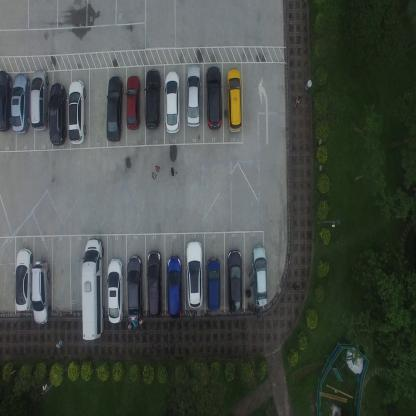car: (81, 236, 104, 341), (67, 78, 86, 146), (32, 258, 51, 326), (14, 246, 33, 312), (11, 72, 30, 135), (226, 248, 244, 314), (226, 66, 243, 134), (48, 81, 66, 145), (126, 255, 143, 322), (30, 68, 48, 131), (205, 65, 222, 131), (106, 76, 123, 142), (107, 257, 124, 323), (146, 249, 162, 318), (251, 245, 268, 309), (166, 255, 183, 319), (186, 241, 202, 308), (144, 68, 161, 131), (164, 70, 180, 134), (186, 64, 201, 128), (125, 74, 141, 131), (0, 69, 13, 134), (206, 257, 221, 310)
